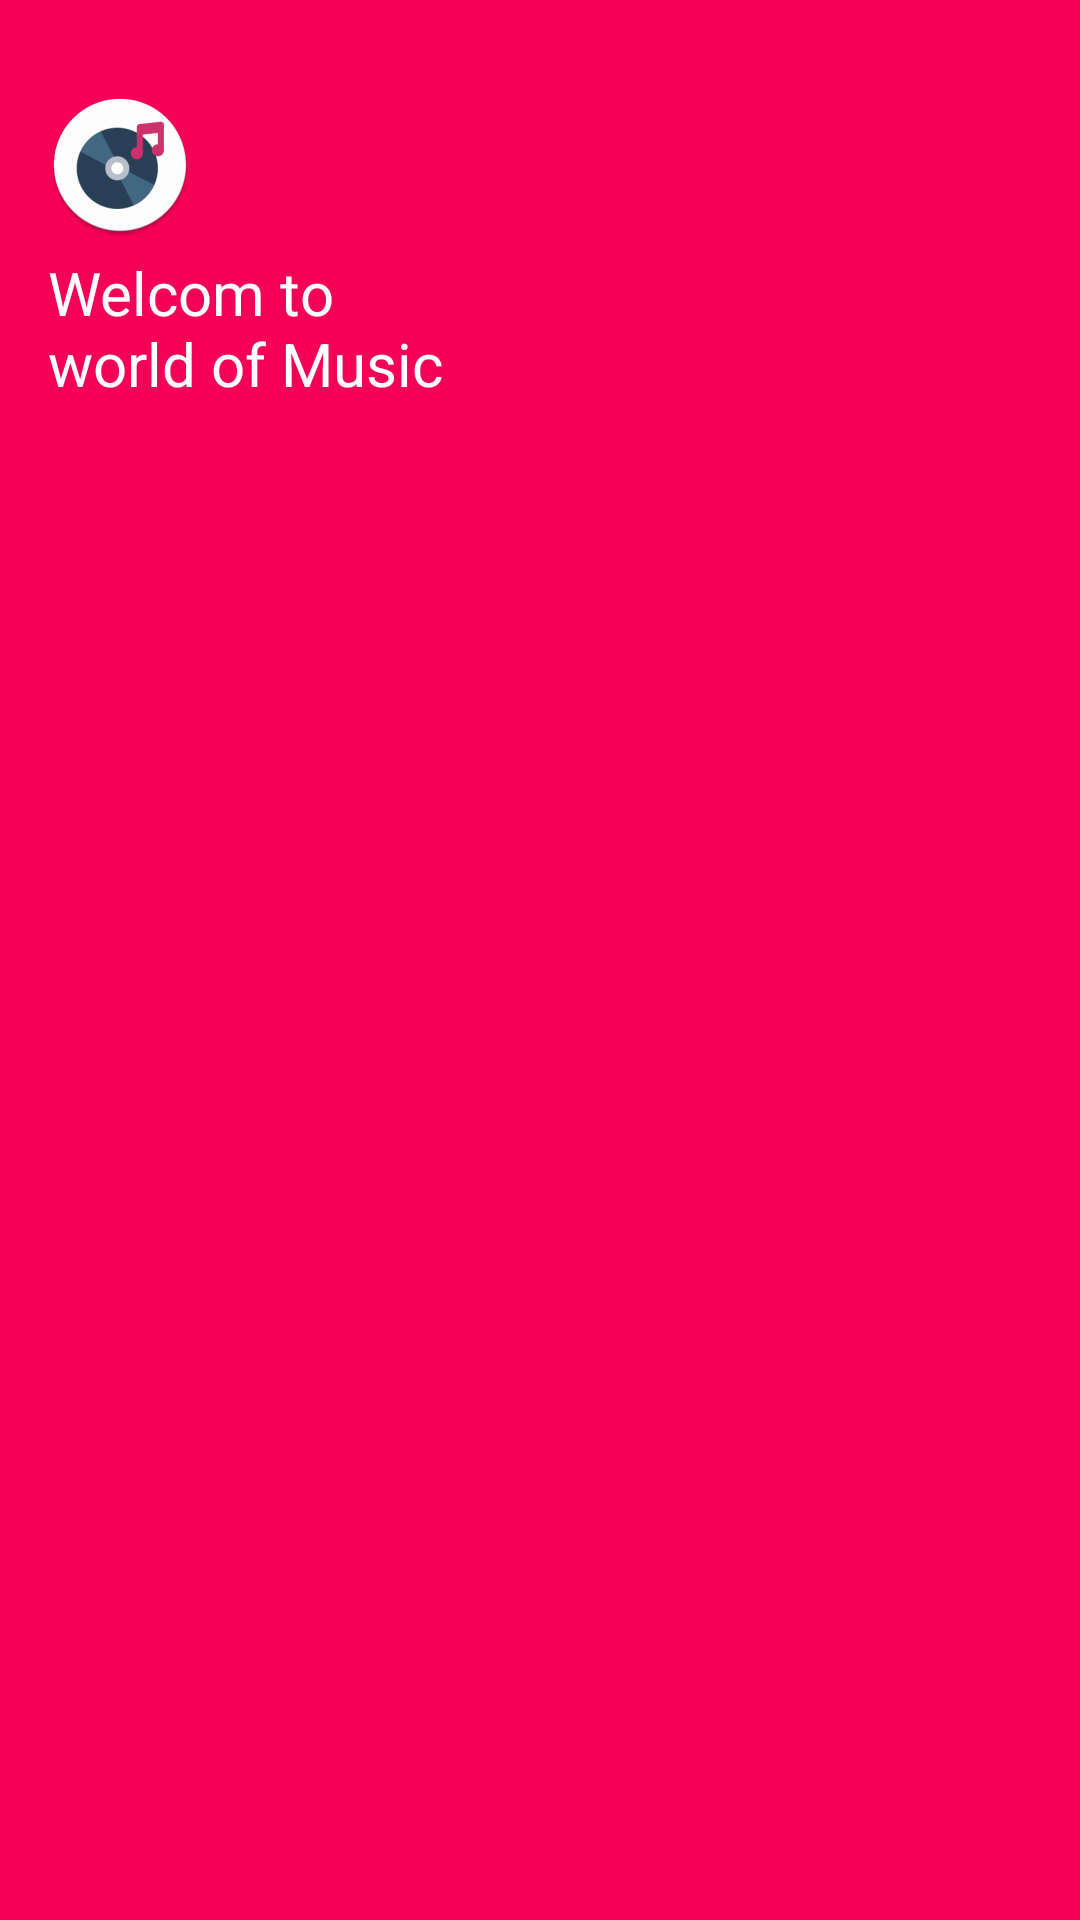

Screen size 1080 × 1920. Icon name, then its center in pixels as (x,y):
music player round: (120,166)
